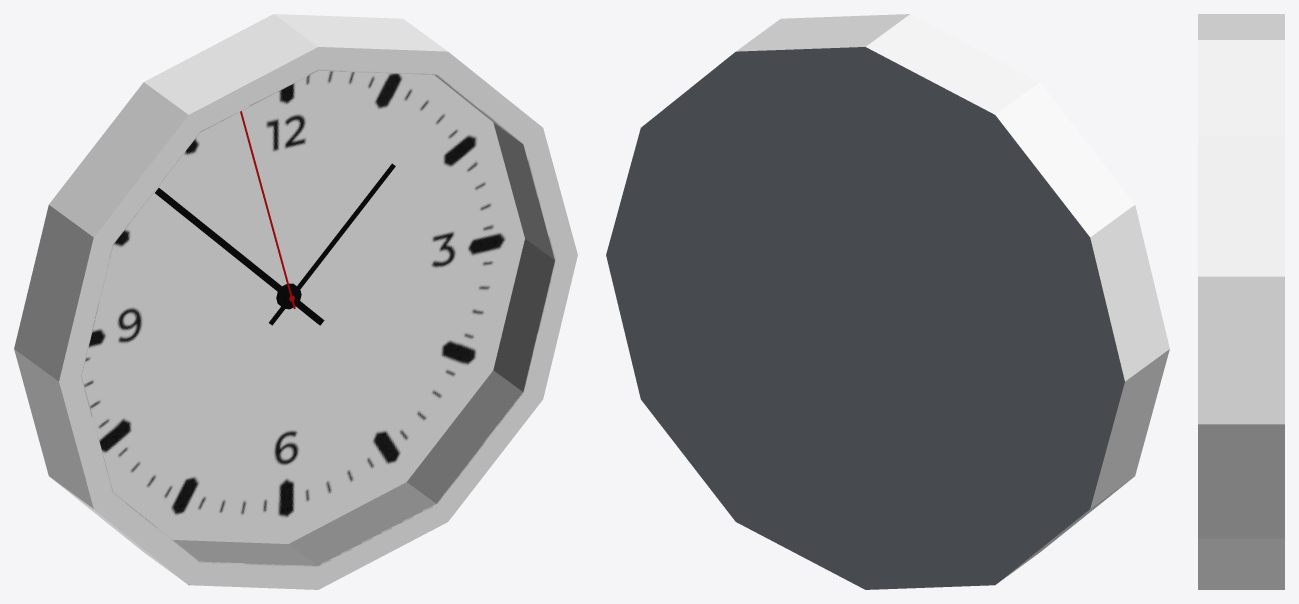
File: Watch_White.fbx
The picture shows the model from 3 angles, left to right: view 1: azimuth 30°, elevation 25°; view 2: azimuth 150°, elevation 25°; view 3: azimuth 270°, elevation 25°; orthographic projection. The views are drawn at different scales.
Visible parts, largest first — view 1: Watch; view 2: Watch; view 3: Watch.
Boxes of the visible parts, <box> form: Watch: <box>14,14,577,589</box>; Watch: <box>606,14,1169,589</box>; Watch: <box>1198,14,1284,589</box>.
Size of the model in its own units: 30 by 30 by 4.5.
